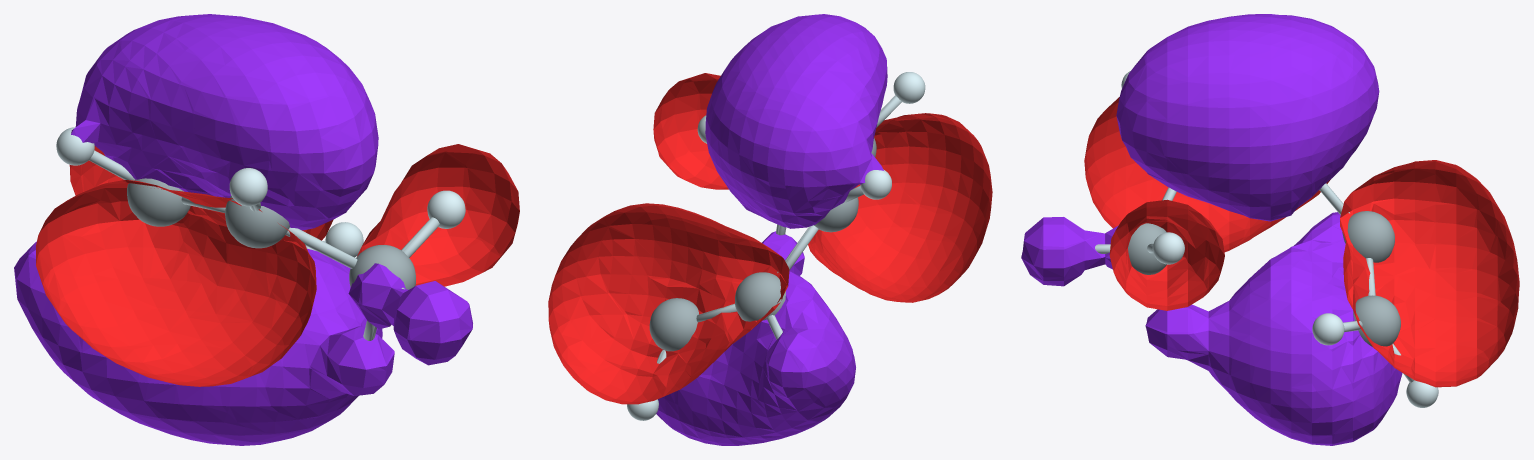
3 renders of one model, left to right at view 1: azimuth 30°, elevation 25°; view 2: azimuth 150°, elevation 25°; view 3: azimuth 270°, elevation 25°, orthographic. The views are drawn at different scales.
Parts seen in each view (by area): view 1: Renderer Node; view 2: Renderer Node; view 3: Renderer Node.
Part boxes in pixels (x1,y1,x2,y2): Renderer Node: (14, 14, 519, 445); Renderer Node: (548, 14, 992, 445); Renderer Node: (1021, 14, 1519, 445).
Bounding box in the file's own units: 4.94 × 5.25 × 6.18.
